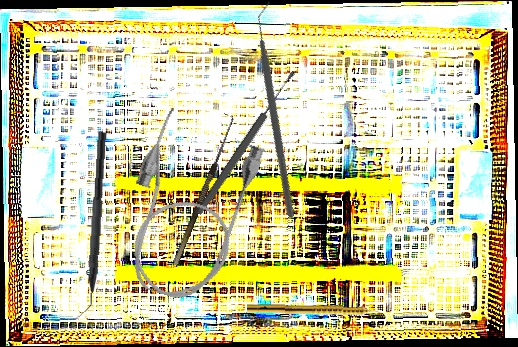Cannula: (105, 104, 269, 311)
Chopper: (173, 0, 387, 220), (75, 130, 107, 322)
Handpiece: (246, 303, 382, 319)
Hook Surgical: (164, 113, 238, 266)
Surgical Spoon: (194, 69, 298, 217)
